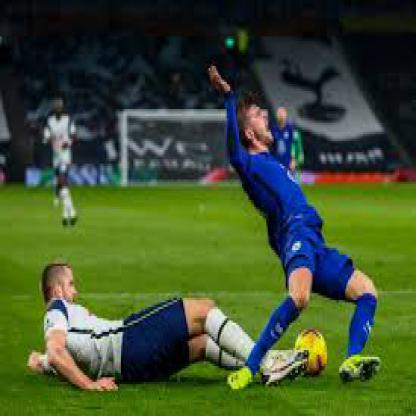Fall_Down: (207, 64, 383, 400)
